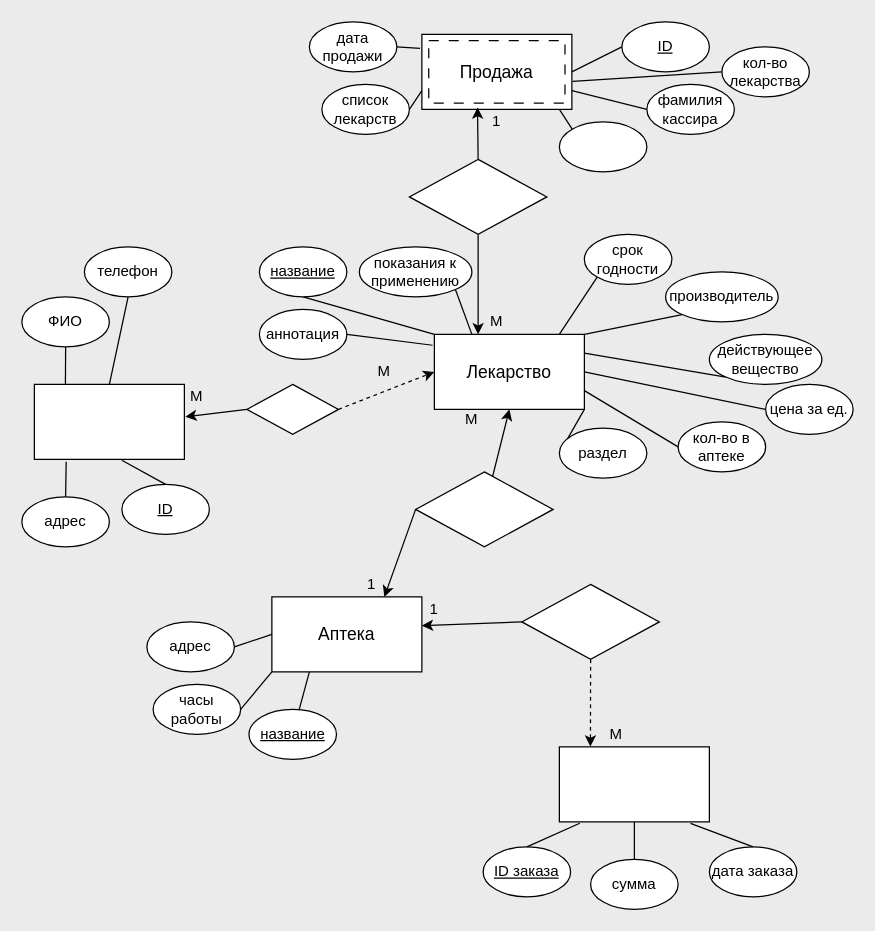
Image size: 875x931. Some labels were removed from this diagram. Each missing label, with the centre of its shape:
"делает" goes at point 590,621.
"Заказ" goes at point 633,784.
"ищет" goes at point 292,408.
"Клиент" goes at point 108,421.
"общая сумма" goes at point 602,146.
"предоставляет" goes at point 483,509.
"содержит" goes at point 477,196.
